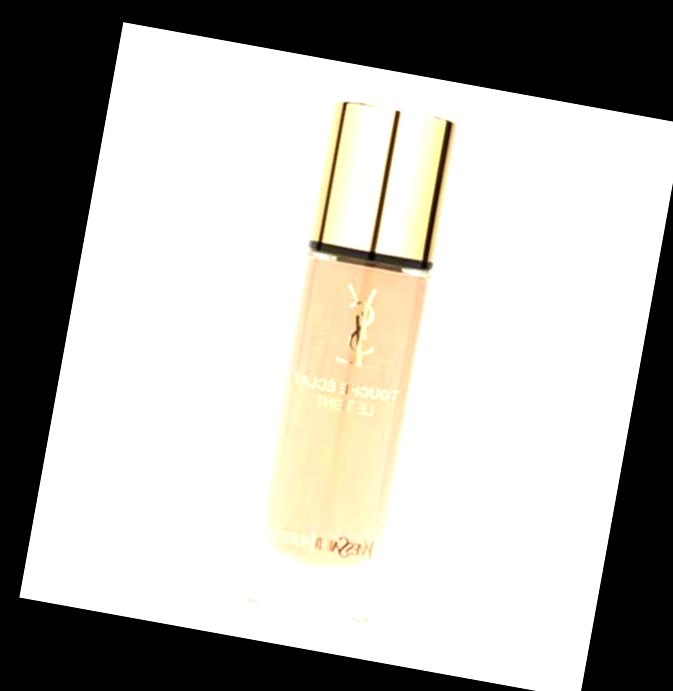cosmetic: (235, 93, 462, 635)
